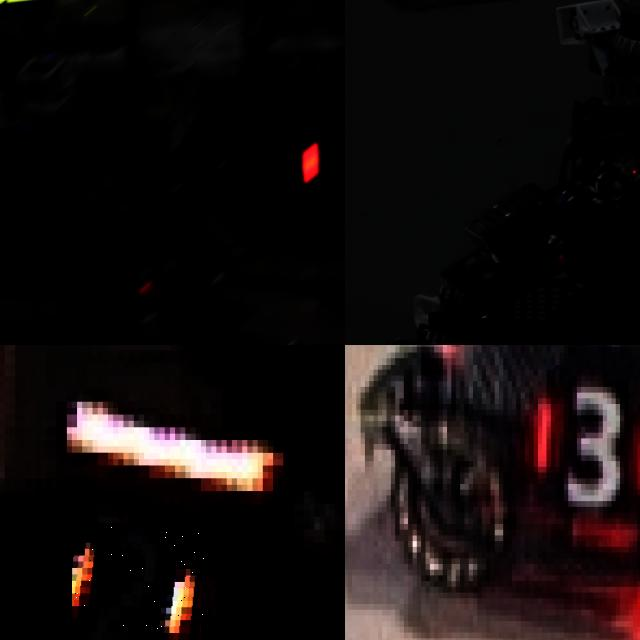R2: (71, 523, 211, 640)
R3: (520, 381, 640, 518)
